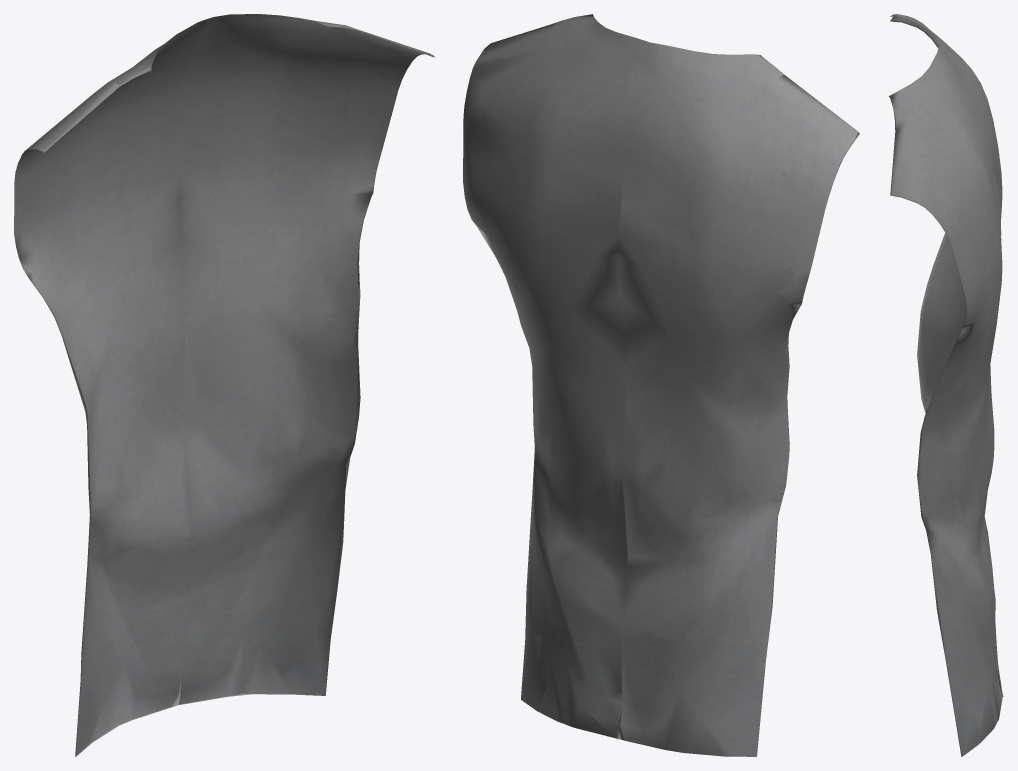
The model's file is lining_new.glb.
The picture shows the model from 3 angles, left to right: view 1: azimuth 30°, elevation 25°; view 2: azimuth 150°, elevation 25°; view 3: azimuth 270°, elevation 25°; orthographic projection. The views are drawn at different scales.
Parts seen in each view (by area): view 1: Full_Lined; view 2: Full_Lined; view 3: Full_Lined.
Boxes of the visible parts, <box> form: Full_Lined: <box>14,14,434,756</box>; Full_Lined: <box>463,14,859,756</box>; Full_Lined: <box>889,14,1003,756</box>.
Size of the model in its own units: 0.0589 by 0.1026 by 0.0163.
Materials: 1 (1 with a texture image).
